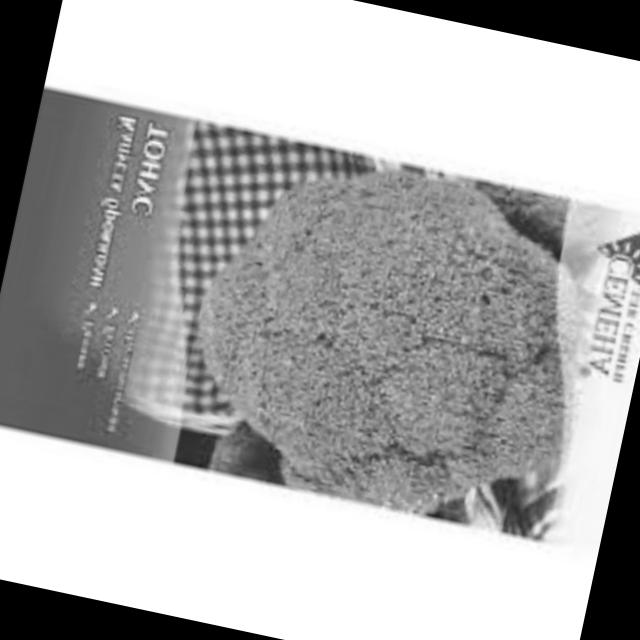broccoli: (166, 125, 613, 551)
